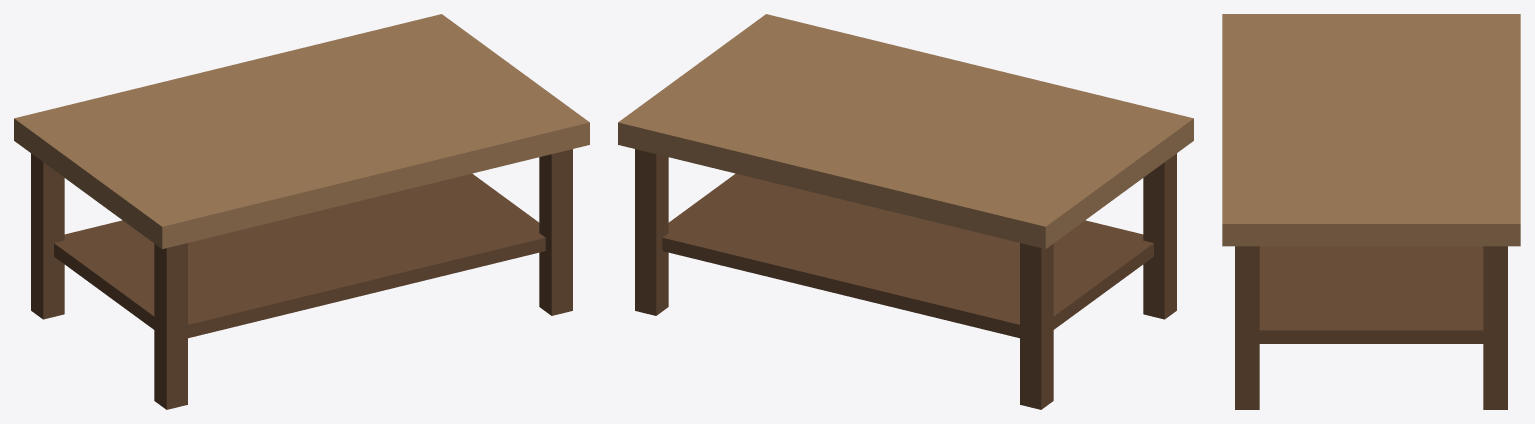
The model's file is coffee_table.glb.
The picture shows the model from 3 angles, left to right: view 1: azimuth 30°, elevation 25°; view 2: azimuth 150°, elevation 25°; view 3: azimuth 270°, elevation 25°; orthographic projection.
Parts seen in each view (by area): view 1: coffee_table; view 2: coffee_table; view 3: coffee_table.
Part boxes in pixels (box(x1,y1,x2,y2)): coffee_table: box(14, 14, 589, 409); coffee_table: box(618, 14, 1193, 409); coffee_table: box(1222, 14, 1520, 409).
Size of the model in its own units: 1 by 0.425 by 0.6.
